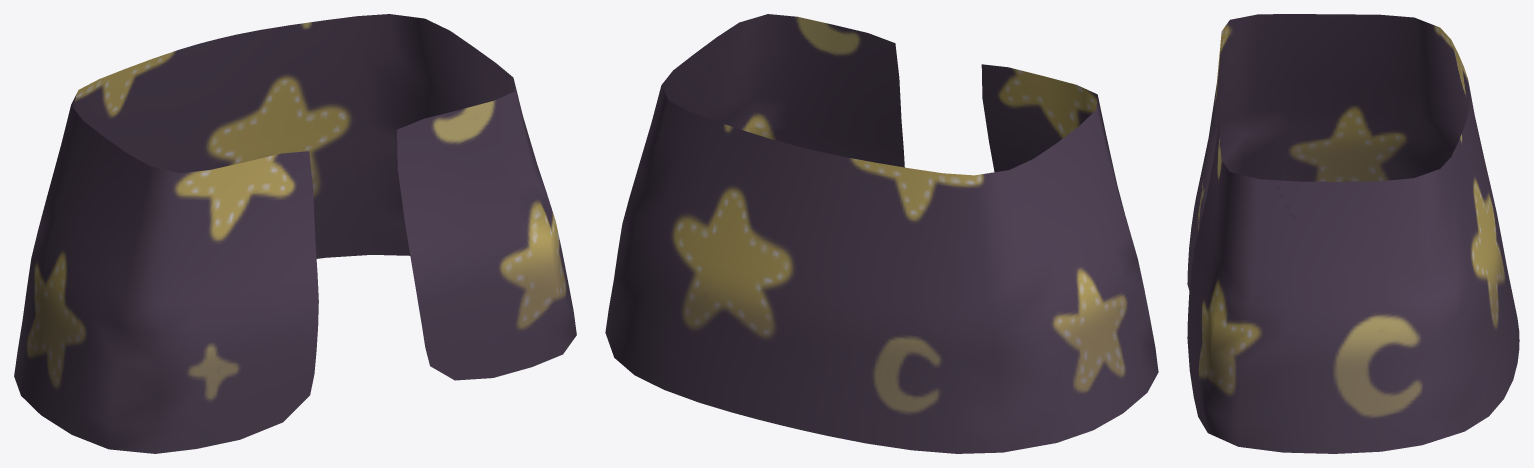
File: tunica2.fbx
The picture shows the model from 3 angles, left to right: view 1: azimuth 30°, elevation 25°; view 2: azimuth 150°, elevation 25°; view 3: azimuth 270°, elevation 25°; orthographic projection. The views are drawn at different scales.
Parts seen in each view (by area): view 1: tunicaabajo; view 2: tunicaabajo; view 3: tunicaabajo.
Boxes of the visible parts, x1,y1,x2,y2 form: tunicaabajo: (14, 14, 576, 453); tunicaabajo: (605, 14, 1158, 453); tunicaabajo: (1187, 14, 1519, 453).
Bounding box in the file's own units: 111 × 55.94 × 68.4.
